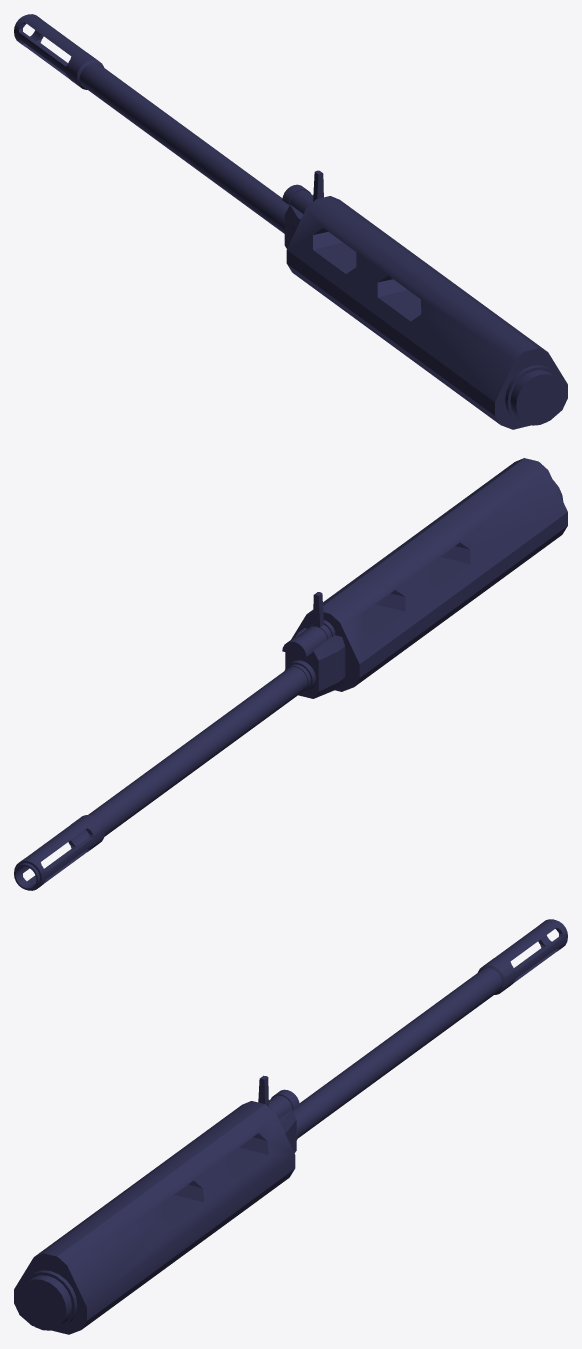
The model's file is Barrel_4.fbx.
3 views of the same model, one above another, from view 1: azimuth 30°, elevation 25°; view 2: azimuth 150°, elevation 25°; view 3: azimuth 330°, elevation 25° (orthographic).
Visible parts, largest first — view 1: Barrel_4; view 2: Barrel_4; view 3: Barrel_4.
Part boxes in pixels (x1,y1,x2,y2): Barrel_4: (14,14,567,429); Barrel_4: (14,458,567,890); Barrel_4: (14,919,567,1334).
Bounding box in the file's own units: 0.2517 × 0.3208 × 3.07.
